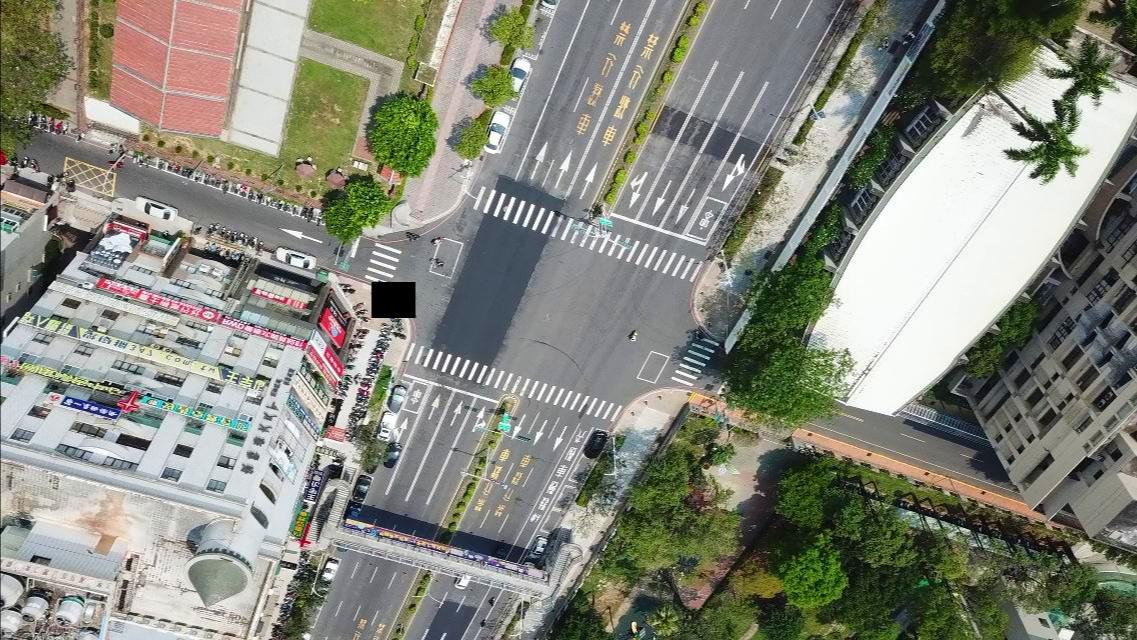vehicle: (482, 110, 509, 155), (133, 196, 176, 220), (506, 57, 530, 100), (275, 246, 315, 271), (583, 427, 605, 460), (348, 476, 371, 504), (529, 536, 551, 563), (381, 441, 401, 470), (317, 561, 337, 588), (376, 413, 395, 441), (388, 384, 405, 414), (455, 572, 471, 591)
